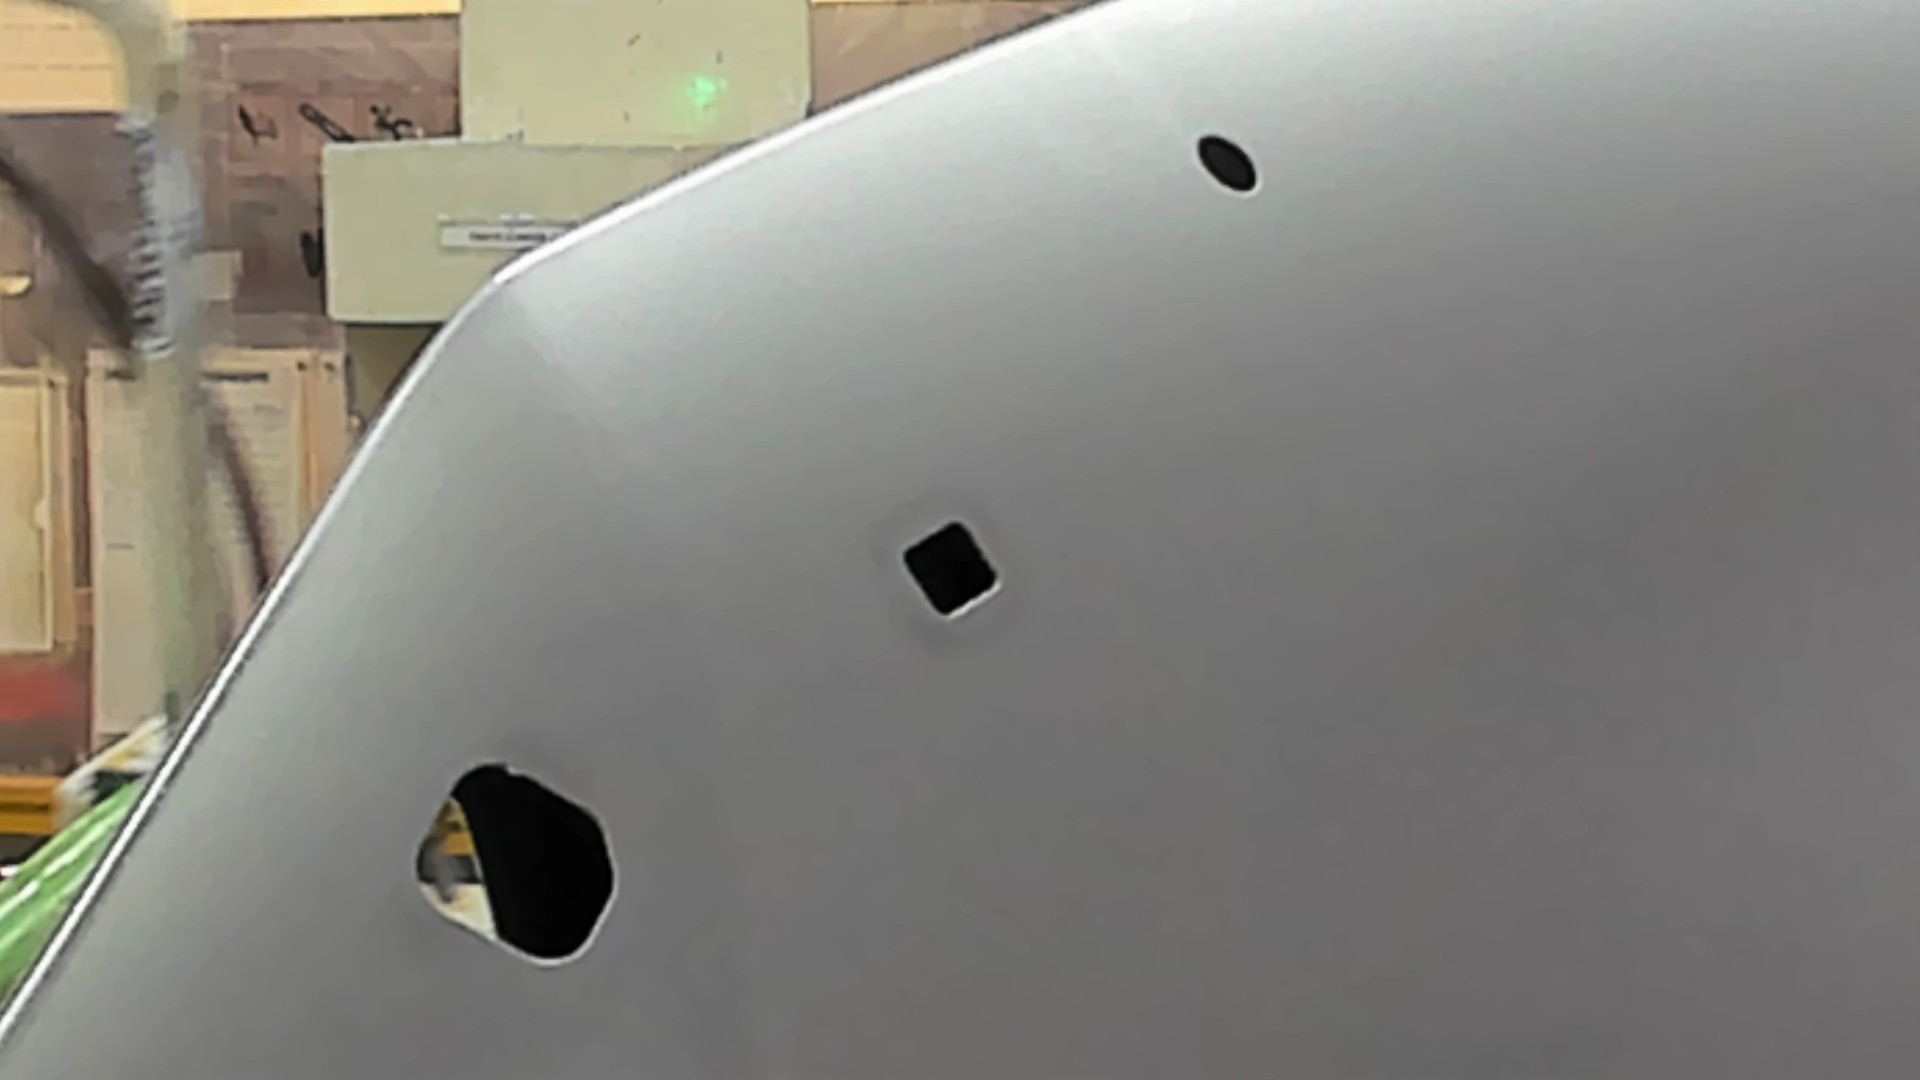chico: (1180, 129, 1271, 214)
grande: (393, 764, 669, 981)
mediano: (897, 508, 1023, 617)
